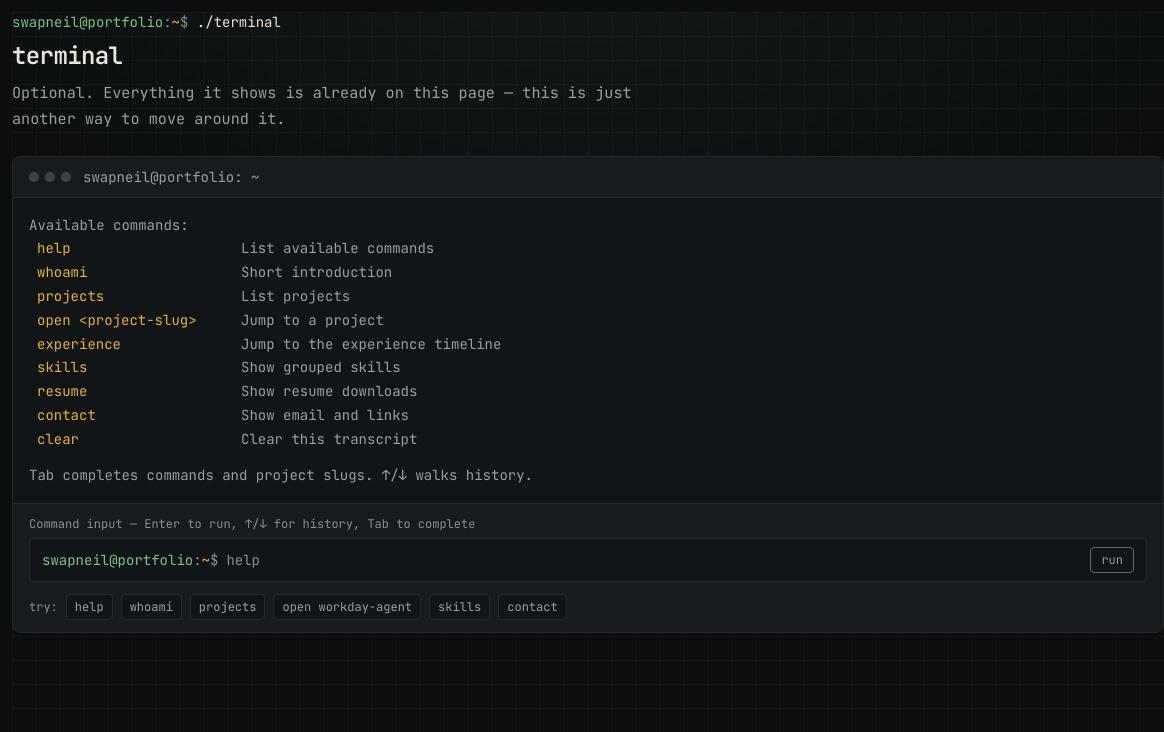
Test: TerminalPanel › runs a clickable suggestion chip
Click the button "projects".
click(228, 608)  # box [190,594,265,620]
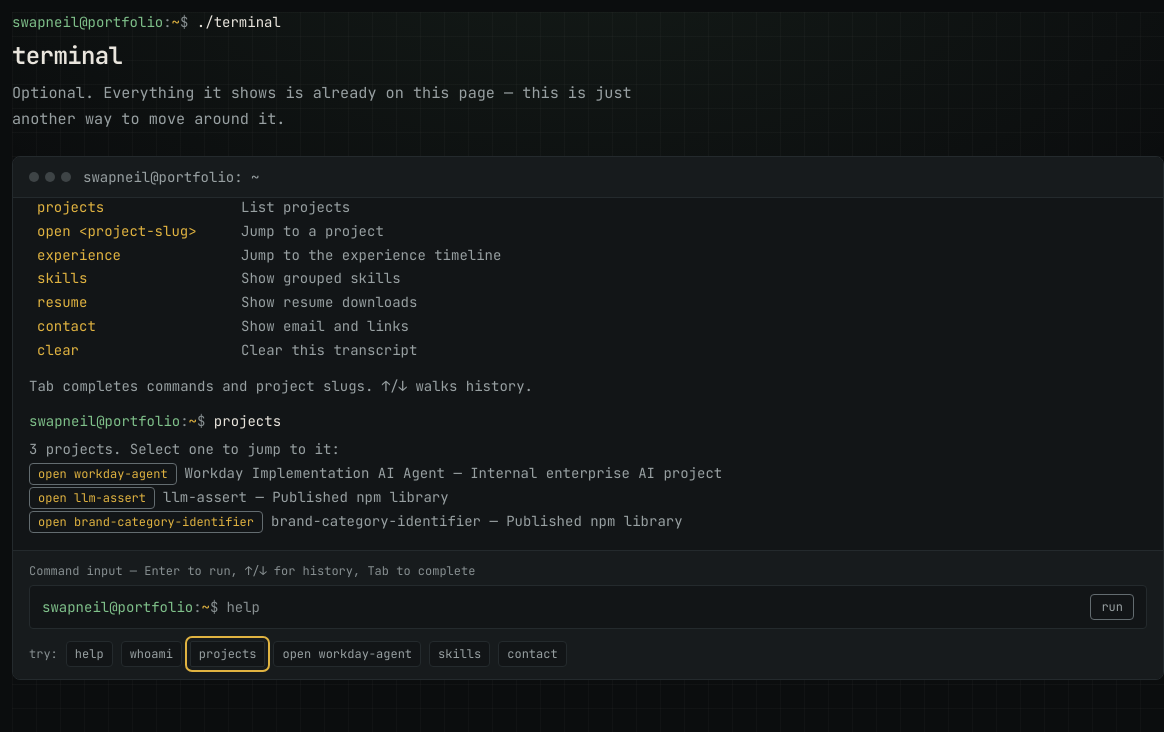
Now the text "3 projects. Select one to jump to it:" is shown, box [29,440,340,458]
Now the button "open workday-agent" below "3 projects. Select one to jump to it:" is shown, box [29,463,177,485]
Now the button "open llm-assert" is shown, box [29,487,155,509]
